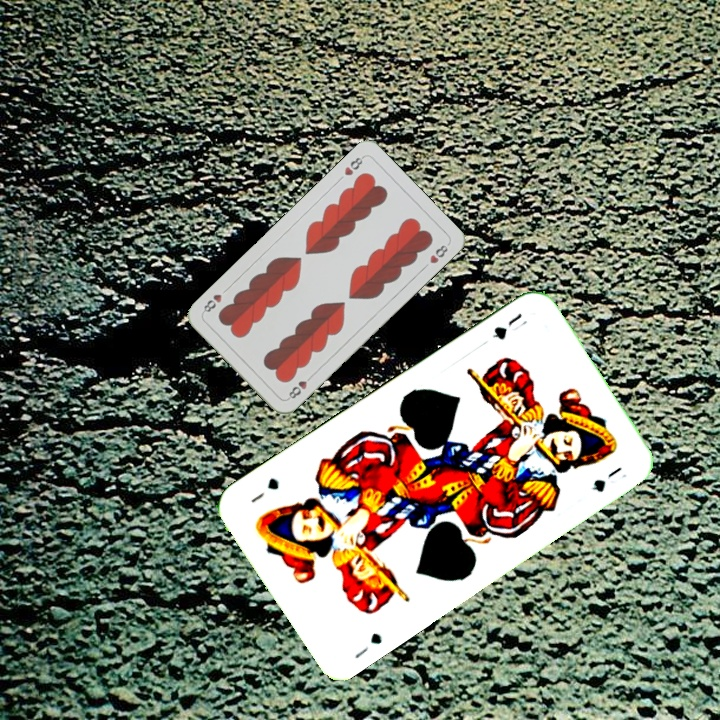GU: (489, 308, 525, 343), (350, 628, 385, 662)
H8: (283, 370, 316, 402), (340, 152, 367, 178)
